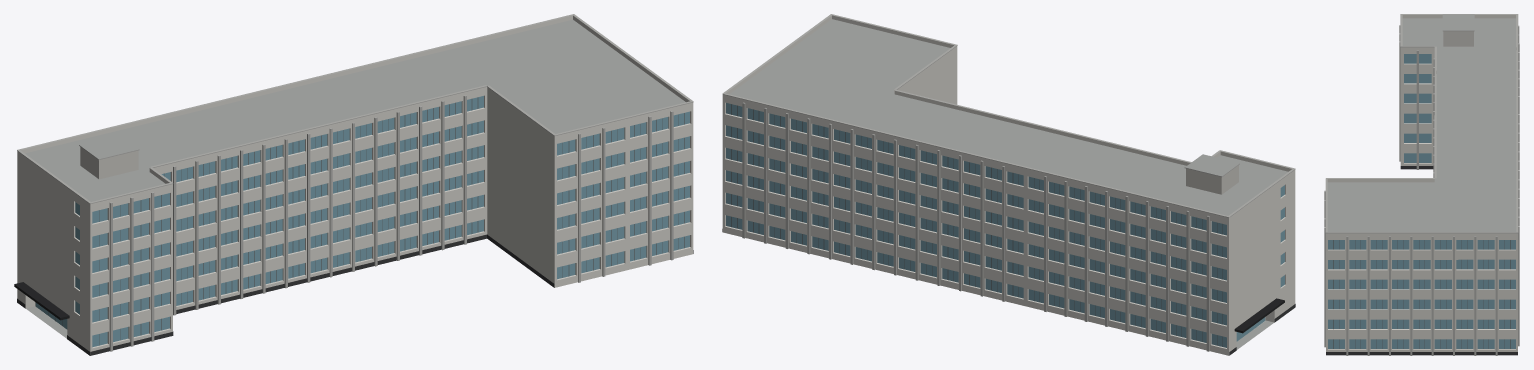
3 renders of one model, left to right at view 1: azimuth 30°, elevation 25°; view 2: azimuth 150°, elevation 25°; view 3: azimuth 270°, elevation 25°, orthographic. The views are drawn at different scales.
Parts seen in each view (by area): view 1: engineering1__wall, engineering1__roof, engineering1__glass, engineering1__trim, engineering1__parapet, engineering1__frame, engineering1__base, engineering1__wall2, engineering1__canopy; view 2: engineering1__wall, engineering1__roof, engineering1__glass, engineering1__trim, engineering1__parapet, engineering1__frame, engineering1__wall2, engineering1__canopy; view 3: engineering1__roof, engineering1__wall, engineering1__glass, engineering1__trim, engineering1__parapet, engineering1__frame, engineering1__base, engineering1__wall2.
Boxes of the visible parts, <box> form: engineering1__wall: <box>17,90,693,355</box>; engineering1__roof: <box>25,19,685,338</box>; engineering1__glass: <box>35,96,689,347</box>; engineering1__trim: <box>17,14,693,351</box>; engineering1__parapet: <box>17,15,693,207</box>; engineering1__frame: <box>48,97,684,345</box>; engineering1__base: <box>17,234,693,355</box>; engineering1__wall2: <box>80,147,138,179</box>; engineering1__canopy: <box>14,282,69,320</box>; engineering1__wall: <box>722,49,1295,355</box>; engineering1__roof: <box>730,19,1288,349</box>; engineering1__glass: <box>726,103,1284,347</box>; engineering1__trim: <box>722,14,1295,351</box>; engineering1__parapet: <box>722,15,1295,220</box>; engineering1__frame: <box>731,104,1222,346</box>; engineering1__wall2: <box>1186,165,1238,194</box>; engineering1__canopy: <box>1234,298,1284,333</box>; engineering1__roof: <box>1327,14,1516,231</box>; engineering1__wall: <box>1326,50,1517,351</box>; engineering1__glass: <box>1328,54,1515,348</box>; engineering1__trim: <box>1324,14,1519,355</box>; engineering1__parapet: <box>1326,15,1517,235</box>; engineering1__frame: <box>1333,240,1510,348</box>; engineering1__base: <box>1326,166,1517,355</box>; engineering1__wall2: <box>1443,31,1473,46</box>.
Size of the model in its own units: 86.43 by 24.6 by 32.02.
